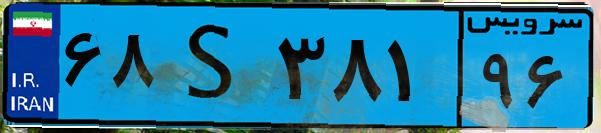1: (385, 28, 445, 110)
3: (270, 28, 330, 110)
6: (57, 26, 110, 100), (525, 38, 570, 115)
8: (330, 28, 385, 110), (110, 28, 158, 98)
9: (475, 38, 525, 113)
S: (158, 12, 270, 120)
